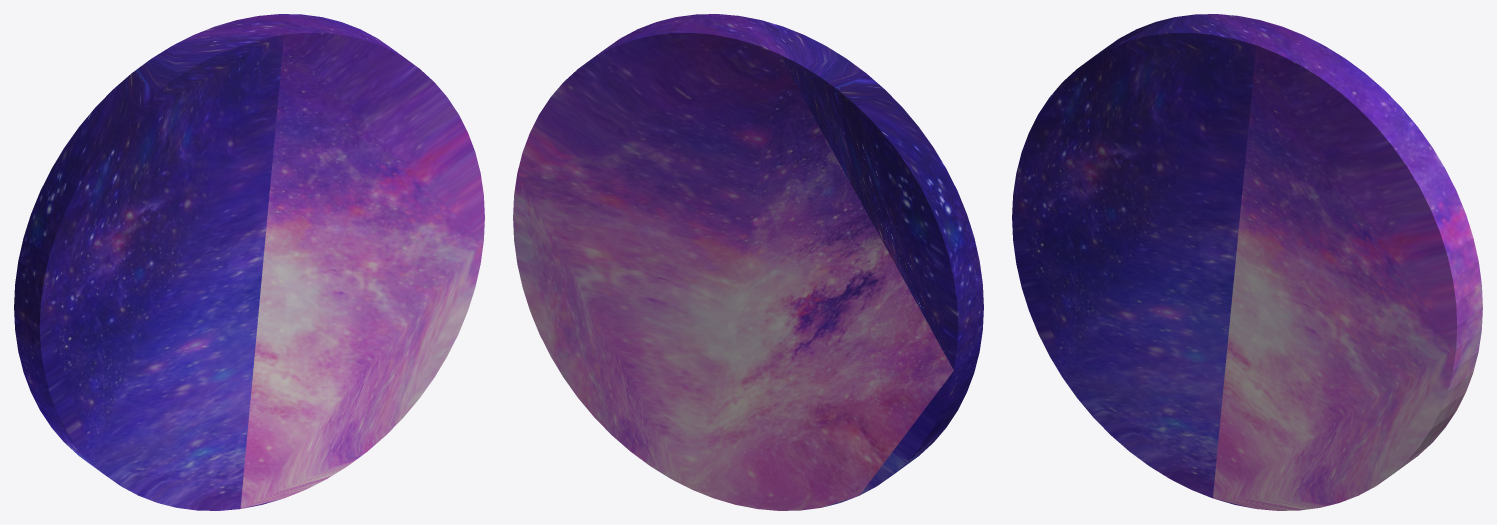
Rendered from disk.obj.
3 renders of one model, left to right at view 1: azimuth 30°, elevation 25°; view 2: azimuth 150°, elevation 25°; view 3: azimuth 330°, elevation 25°, orthographic.
Visible parts, largest first — view 1: Cylinder; view 2: Cylinder; view 3: Cylinder.
Part boxes in pixels (x1,y1,x2,y2): Cylinder: [14, 14, 484, 510]; Cylinder: [513, 14, 983, 510]; Cylinder: [1012, 14, 1482, 510].
Size of the model in its own units: 1.5 by 1.5 by 0.15.
